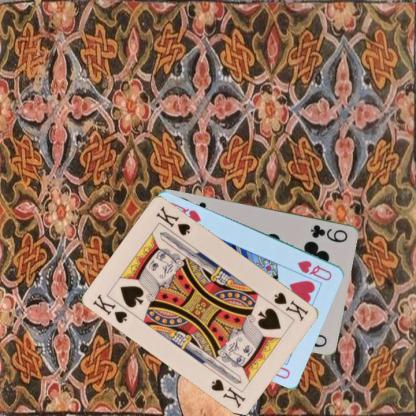9c: (308, 222, 349, 244)
Ks: (91, 291, 129, 325), (272, 290, 310, 323)
Qh: (296, 258, 334, 282)
